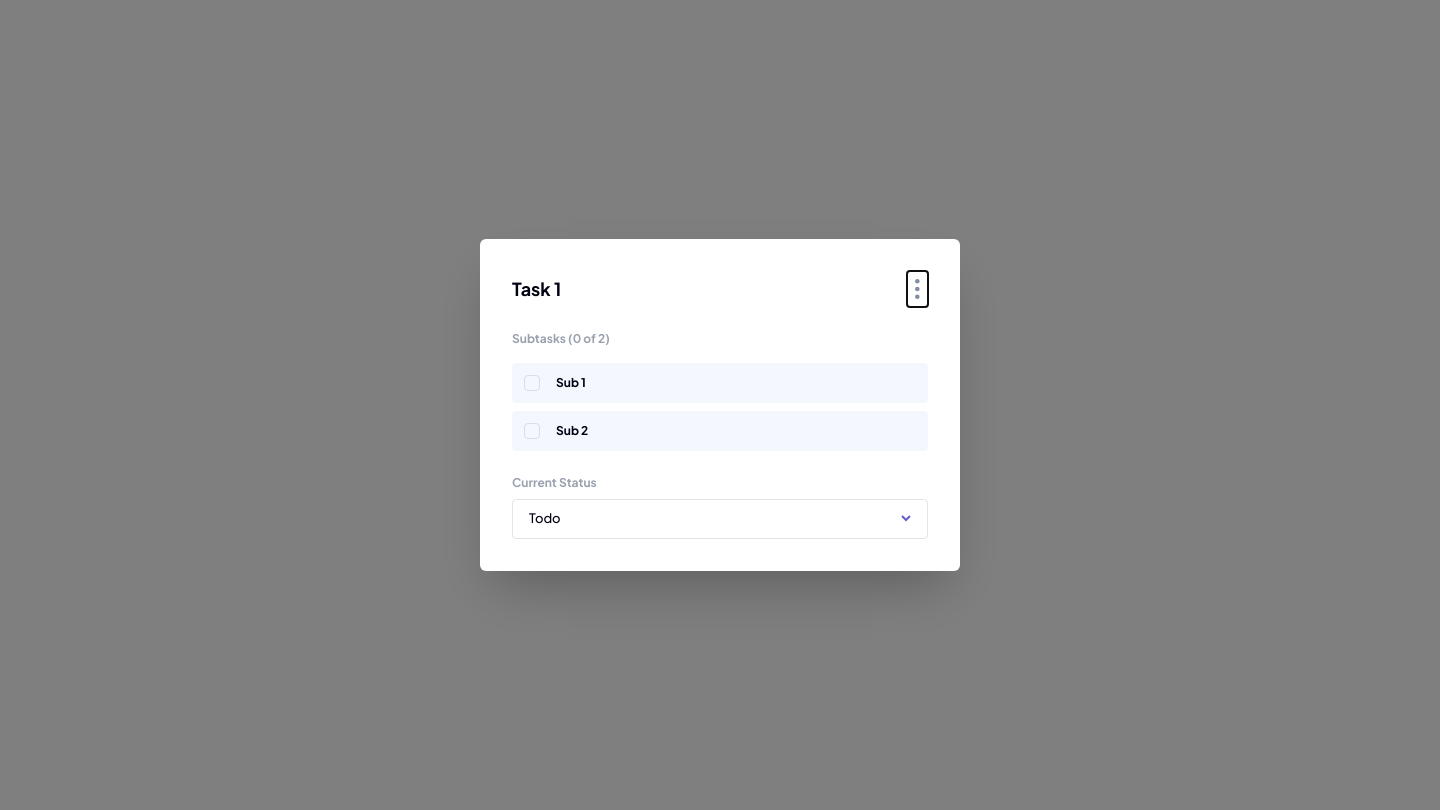
TaskView › toggles a subtask completion and updates the counter
Expected: the text "Subtasks (0 of 2)" is shown, [512,331,610,346]
Click the text "Sub 1": (571,383) [556,375,586,391]
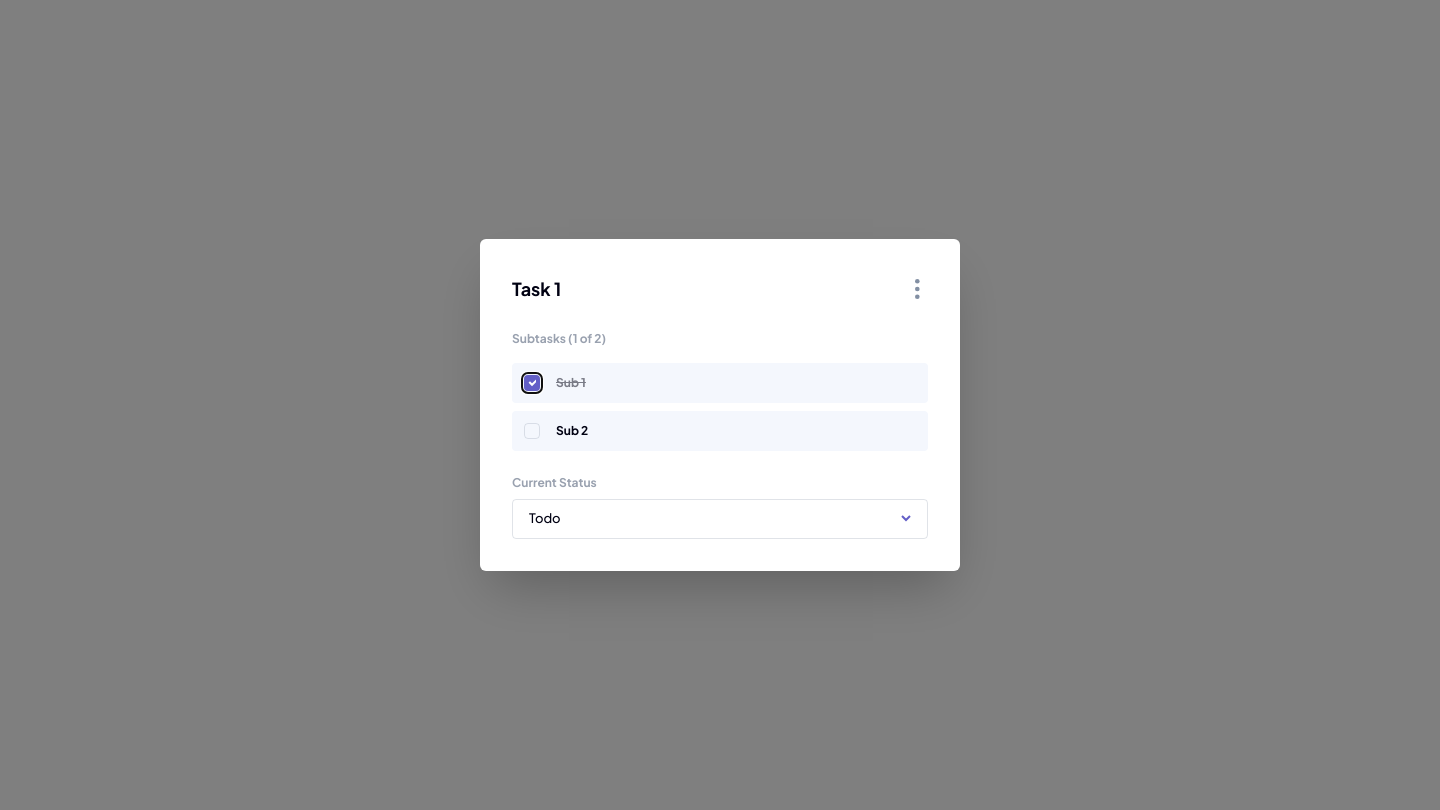
Result: the text "Subtasks (1 of 2)" is shown at [512,331,606,346]
